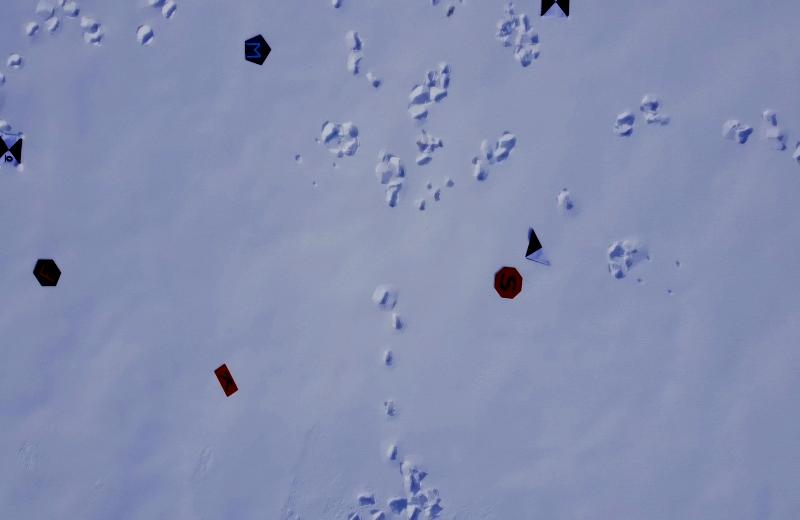Hexagon: (26, 253, 65, 291)
Octagon: (490, 259, 526, 305)
Pentagon: (238, 30, 276, 71)
Rectangle: (206, 356, 244, 396)
